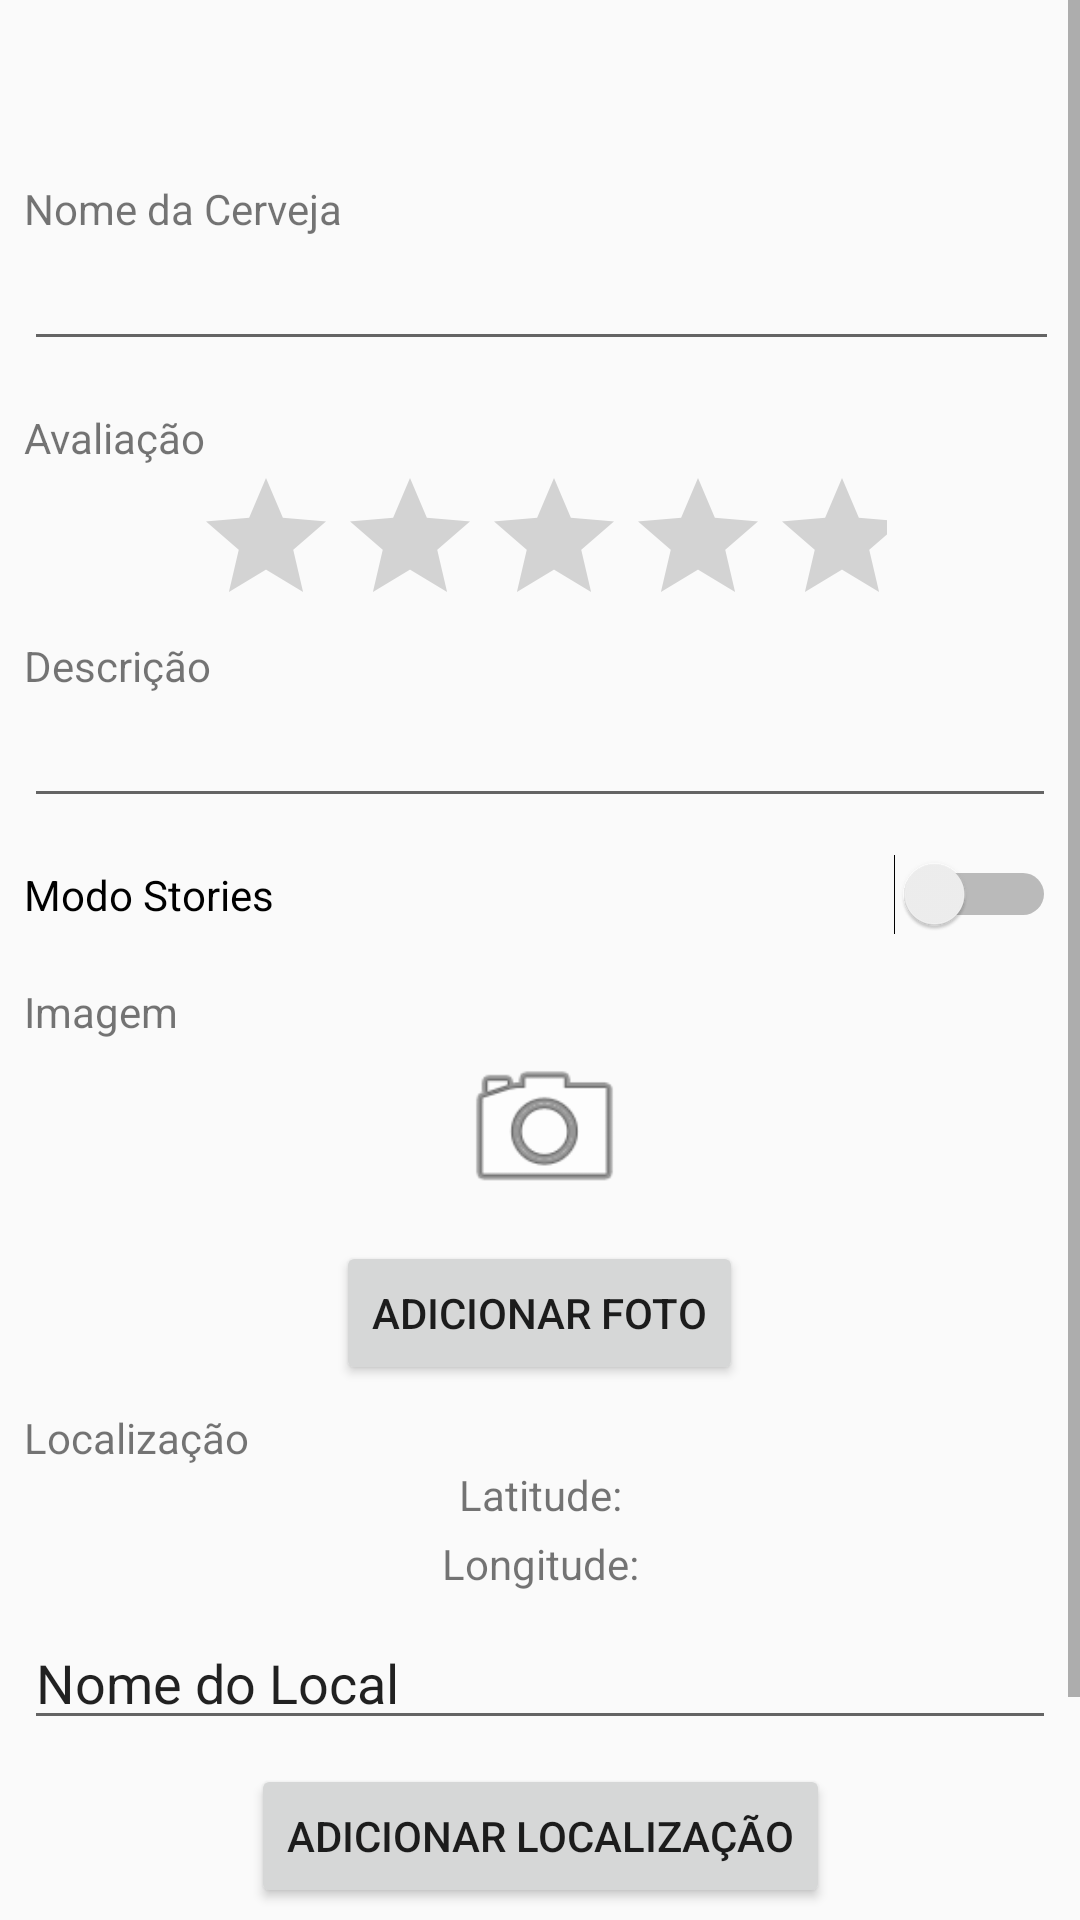

Icons on this 1080x1920 Android screen, each with the point to tap as (x,y):
camera: (544,1125)
